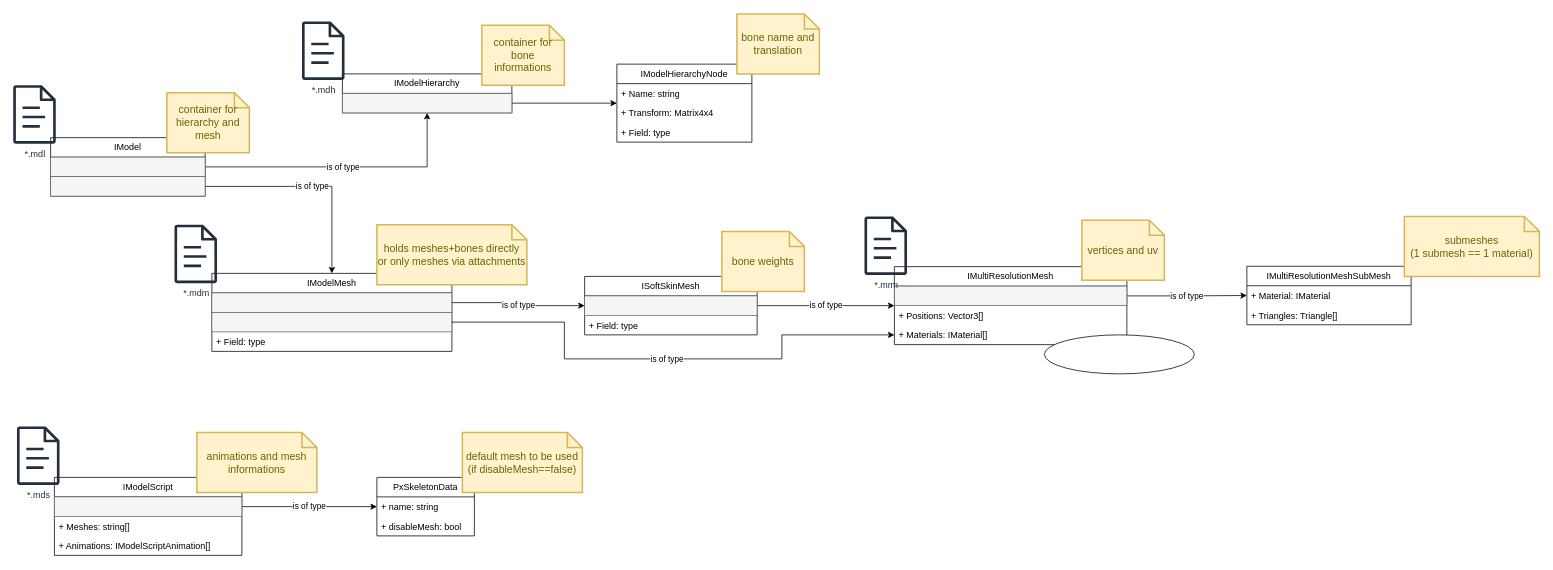
This 1553x570 diagram has some shape labels left out. Each missing label, with the centre of its shape:
"+ Attachments: Dict<string, IMultiResolutionMesh>" goes at pixel 331 322.
"+ Hierarchy: IModelHierarchy" goes at pixel 127 166.
"+ Mesh: IModelMesh" goes at pixel 127 186.
"+ Mesh: IMultiResolutionMesh" goes at pixel 670 305.
"+ Meshes: ISoftSkinMesh[]" goes at pixel 331 302.
"+ Nodes: IModelHierarchyNode[]" goes at pixel 427 103.
"+ Skeleton: ISkeleton" goes at pixel 148 506.
"+ SubMeshes: IMultiResolutionMeshSubMesh[]" goes at pixel 1010 295.
"example: ITFO_PLANTS_HERB_01.mrm" goes at pixel 1119 354.
